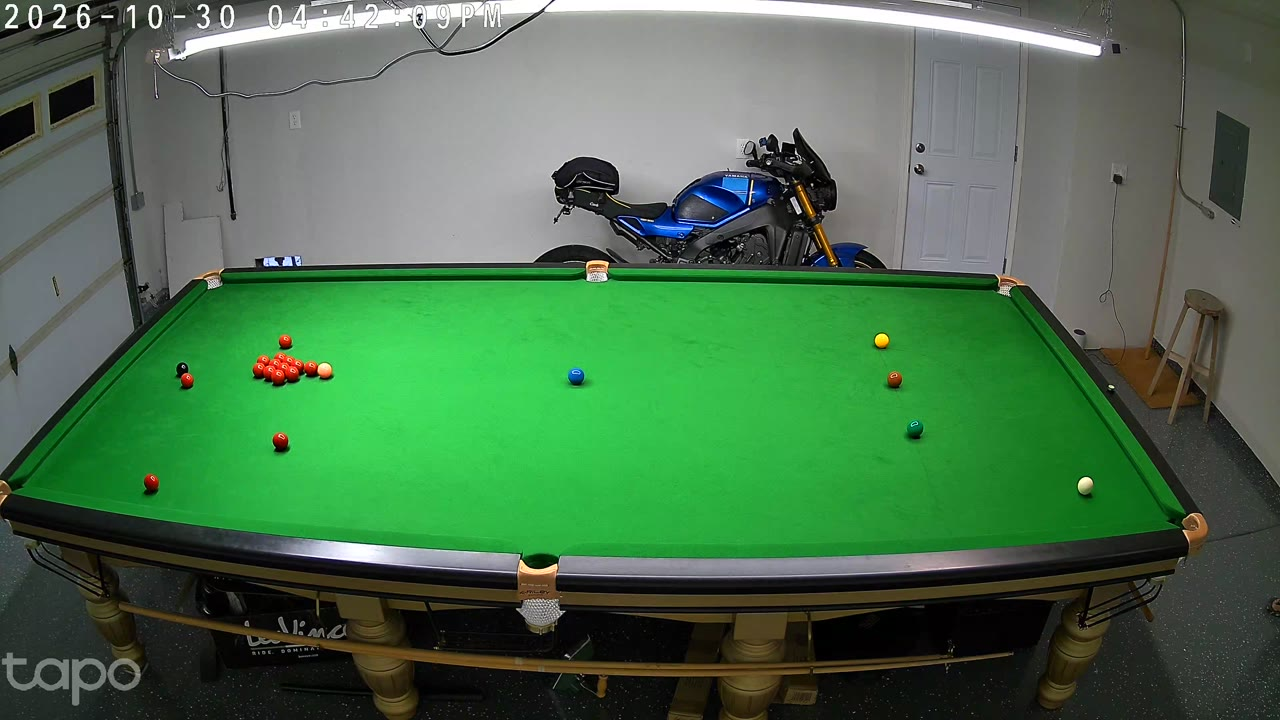black: (176, 361, 189, 381)
blue: (568, 366, 585, 389)
brown: (887, 370, 901, 390)
green: (907, 417, 923, 440)
pink: (319, 361, 331, 382)
red: (144, 472, 159, 496), (273, 431, 289, 453), (181, 371, 193, 391), (279, 333, 291, 350), (305, 361, 317, 377), (272, 371, 284, 386), (286, 366, 298, 381), (258, 354, 270, 366), (253, 363, 263, 377), (264, 366, 273, 380), (270, 359, 280, 369), (293, 359, 303, 369), (285, 355, 294, 365), (275, 353, 286, 360), (279, 363, 288, 369)
white: (1077, 474, 1094, 498)
yellow: (875, 332, 888, 351)
